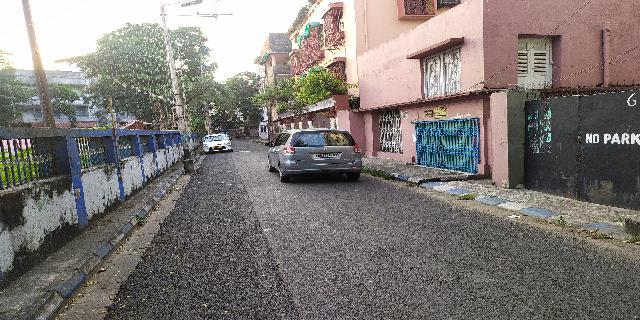Car: (264, 126, 368, 186), (198, 131, 234, 153)
